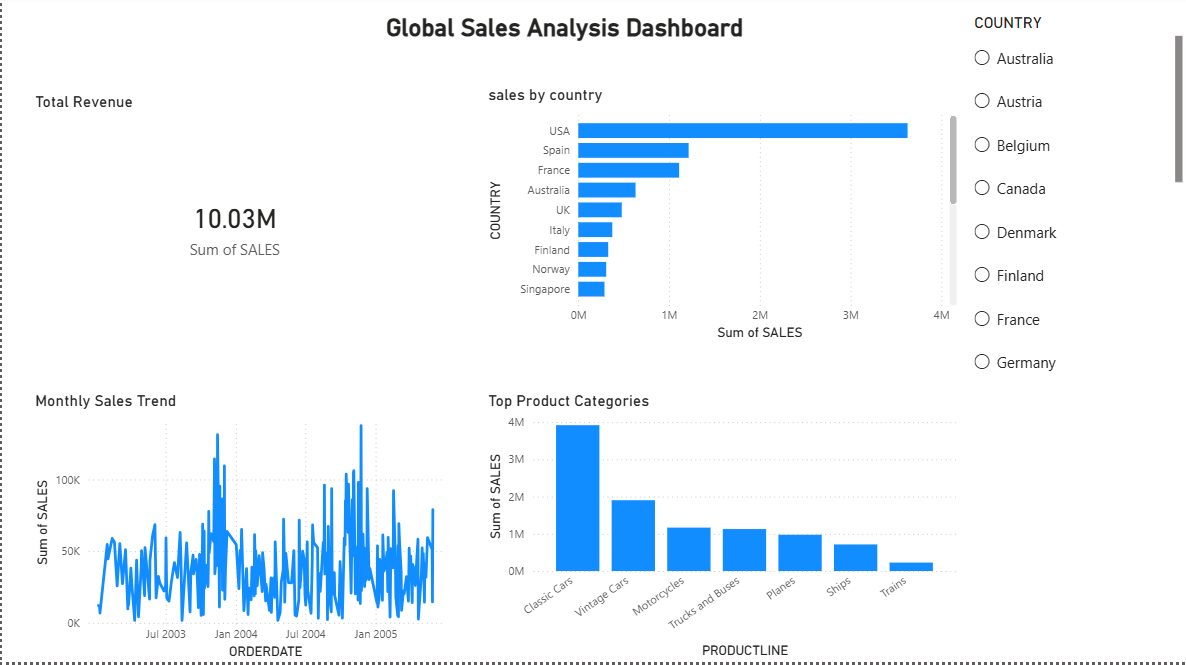

The page's visual inventory and layout, read from the dashboard file:
{"tool":"powerbi","page":{"name":"Page 1","canvas":[1280,720],"ordinal":0},"visuals":[{"type":"card","title":"Total Revenue","fields":{"Values":["Sum(sales_data_sample.SALES)"]},"box":[30,105.7,298.6,270],"z":0},{"type":"clusteredBarChart","title":"sales by country","fields":{"Category":["sales_data_sample.COUNTRY"],"Y":["Sum(sales_data_sample.SALES)"]},"box":[520,96,516,332],"z":1000},{"type":"lineChart","title":"Monthly Sales Trend","fields":{"Category":["sales_data_sample.ORDERDATE"],"Y":["Sum(sales_data_sample.SALES)"]},"box":[30,385,462.5,335],"z":2000},{"type":"clusteredColumnChart","title":"Top Product Categories","fields":{"Category":["sales_data_sample.PRODUCTLINE"],"Y":["Sum(sales_data_sample.SALES)"]},"box":[520,428,515,292],"z":3000},{"type":"listSlicer","fields":{"Values":["sales_data_sample.COUNTRY"]},"box":[1045,20,235,408],"z":4000},{"type":"textbox","title":"Global Sales Analysis Dashboard","box":[410,20,421.4,75.7],"z":4001}]}

Visuals, with their boxes in screenshot pixels (x1, y1, x2, y2), scaled from the page's 1280x720 canvas onto the 1186x665 screenshot:
"Total Revenue" card: 28/98/304/347
"sales by country" clusteredBarChart: 482/89/960/395
"Monthly Sales Trend" lineChart: 28/356/456/664
"Top Product Categories" clusteredColumnChart: 482/395/959/664
listSlicer - sales_data_sample.COUNTRY: 968/18/1185/395
"Global Sales Analysis Dashboard" textbox: 380/18/770/88
